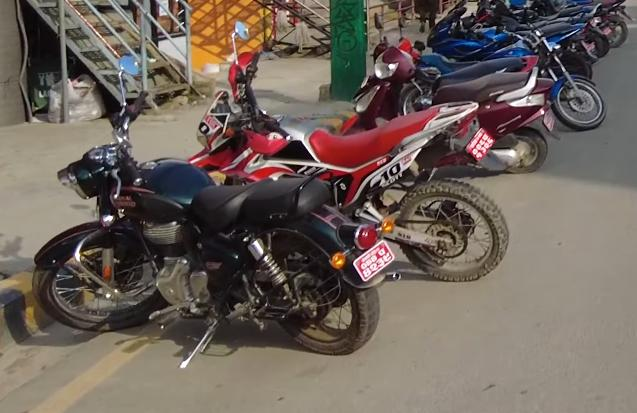bike: (32, 72, 386, 358), (184, 18, 524, 284)
